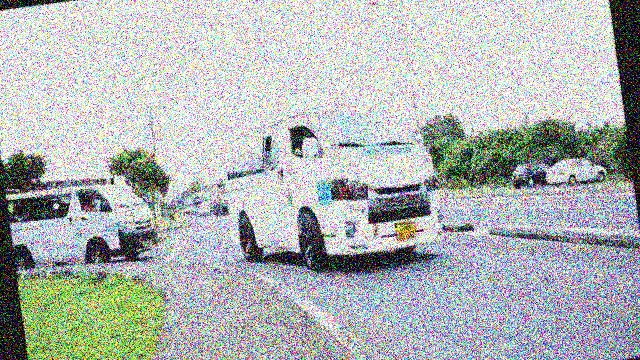van: (215, 96, 448, 284), (6, 171, 168, 278)
